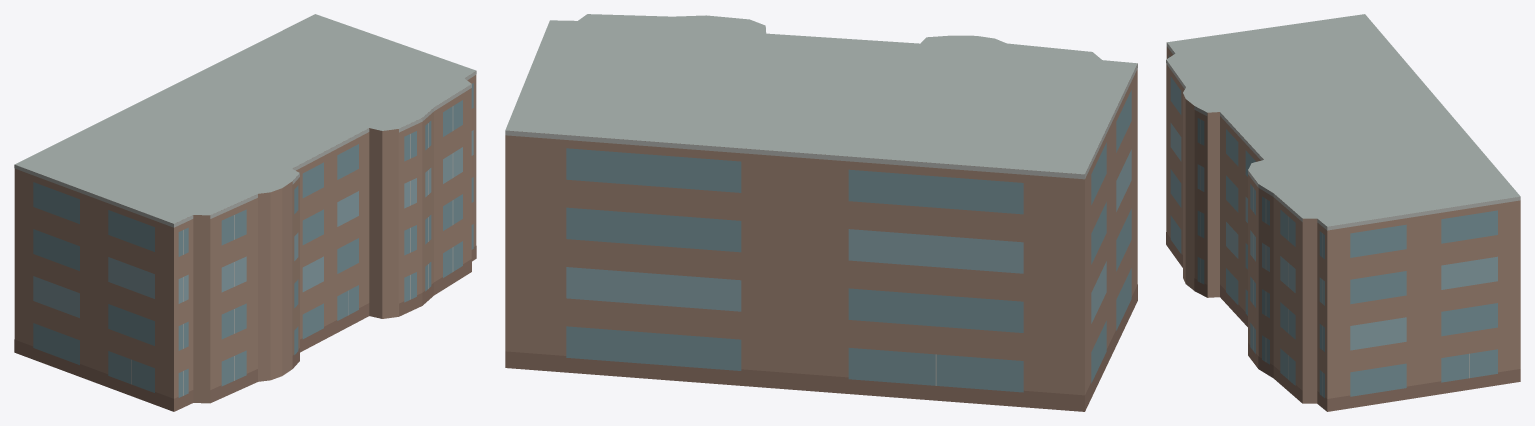
Rendered from survey-upis-32863108.glb.
3 renders of one model, left to right at view 1: azimuth 30°, elevation 25°; view 2: azimuth 150°, elevation 25°; view 3: azimuth 270°, elevation 25°, orthographic. The views are drawn at different scales.
Visible parts, largest first — view 1: survey-upis-32863108.tmp; view 2: survey-upis-32863108.tmp; view 3: survey-upis-32863108.tmp.
Part boxes in pixels (bbox=[...]): survey-upis-32863108.tmp: bbox=[14, 14, 476, 411]; survey-upis-32863108.tmp: bbox=[505, 14, 1137, 411]; survey-upis-32863108.tmp: bbox=[1166, 14, 1520, 411].
Size of the model in its own units: 29.34 by 11.9 by 20.66.
